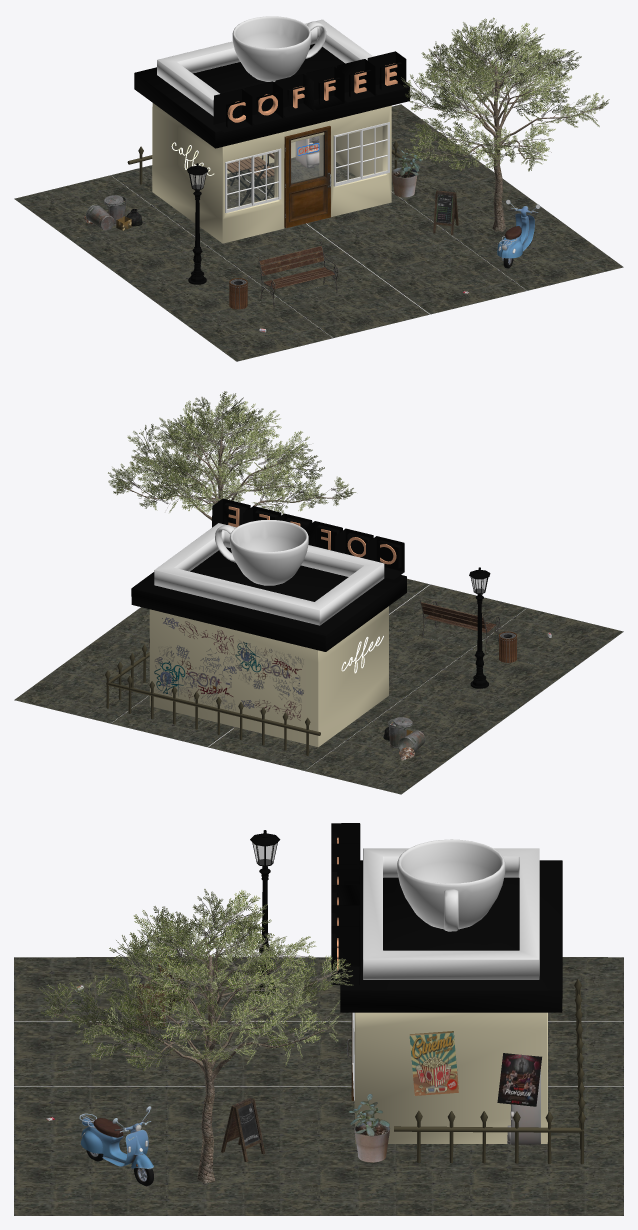
Rendered from coffeeshop.glb.
3 views of the same model, one above another, from view 1: azimuth 30°, elevation 25°; view 2: azimuth 150°, elevation 25°; view 3: azimuth 270°, elevation 25° (orthographic). The views are drawn at different scales.
Parts seen in each view (by area): view 1: Cube.023, SM_Welcome_Sign_Restourant; view 2: Cube.023; view 3: Cube.023, SM_Welcome_Sign_Restourant, Circle.001_3.
Part boxes in pixels (x1,y1,x2,y2): Cube.023: [14, 16, 623, 361]; SM_Welcome_Sign_Restourant: [433, 190, 458, 235]; Cube.023: [14, 391, 623, 794]; Cube.023: [14, 823, 623, 1215]; SM_Welcome_Sign_Restourant: [221, 1097, 265, 1161]; Circle.001_3: [444, 889, 458, 931].
Bounding box in the file's own units: 17.4 × 8.16 × 15.97.
47 materials, 29 textured.
